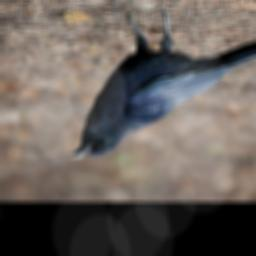Crow: (66, 4, 256, 159)
